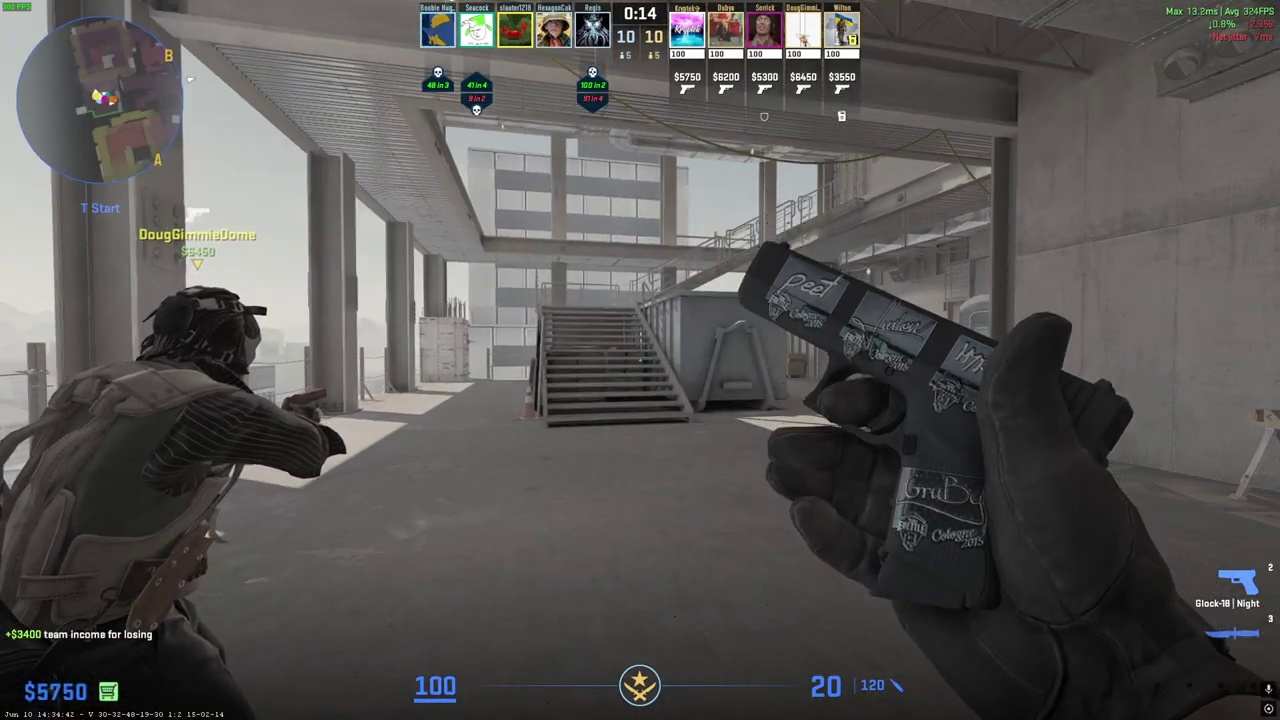Terrorist: (0, 286, 307, 720)
